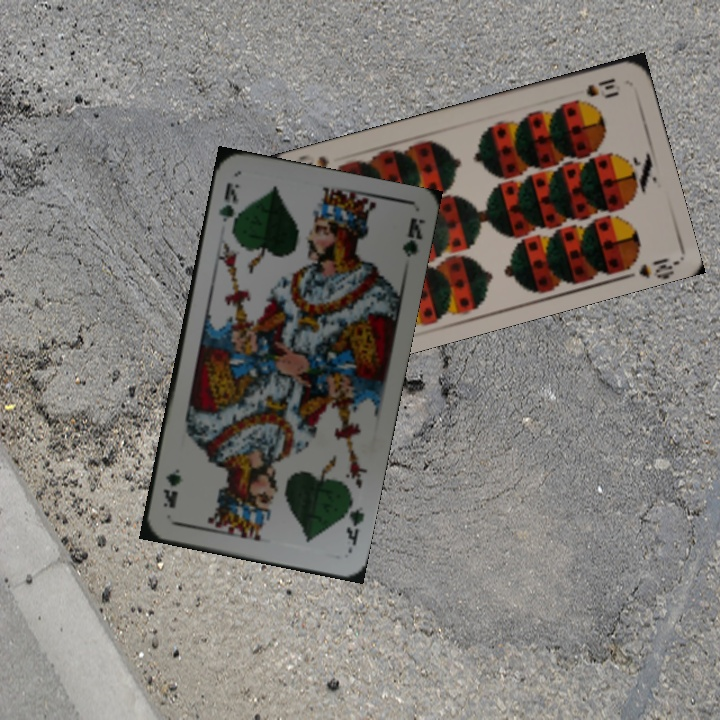GK: (214, 178, 242, 234), (340, 494, 367, 548)
S10: (582, 74, 621, 100)
